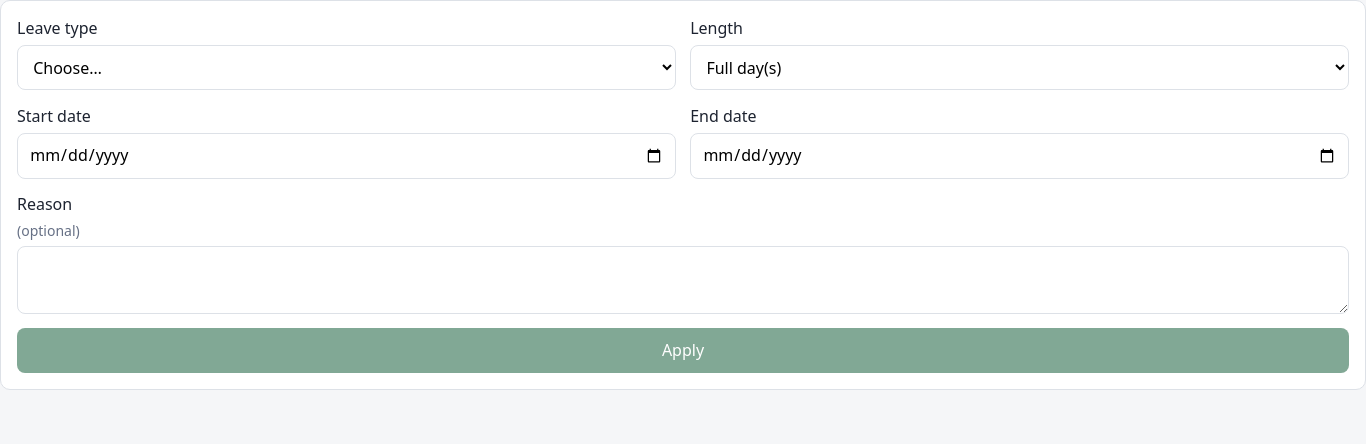
Test: ApplyLeaveForm › sends the typed request and confirms it
Select "Sick (7 available)" in the dropdown labelled "Leave type": (346, 68) left=17, top=45, right=676, bottom=90
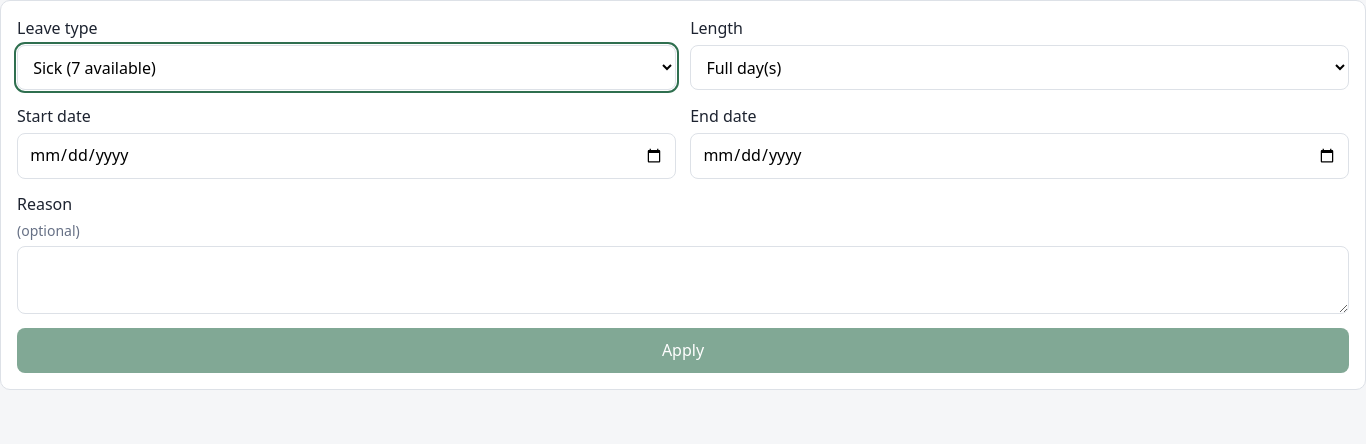
In the date field labelled "Start date": (346, 156) left=17, top=132, right=676, bottom=179, type "2026-03-09"
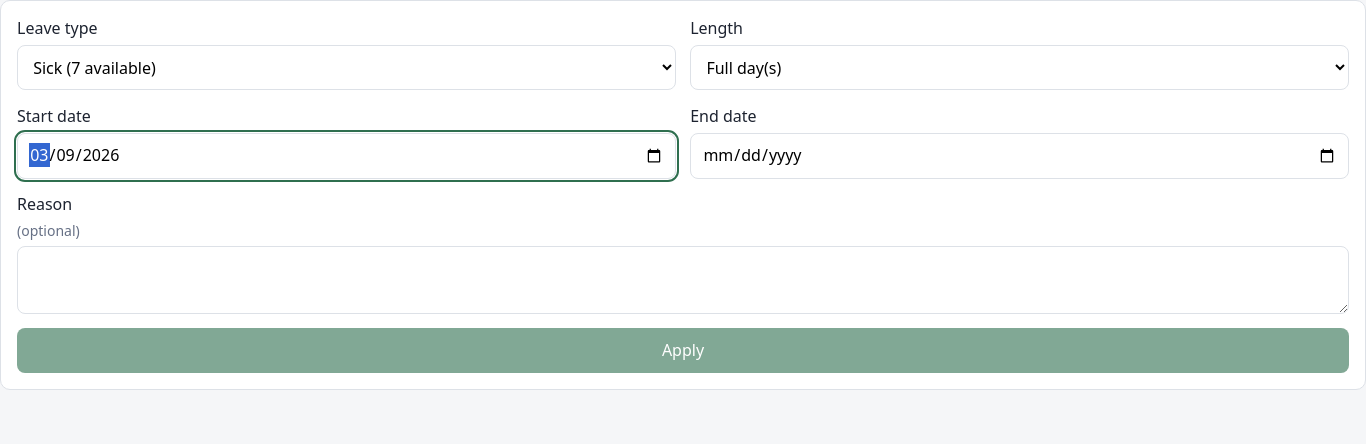
In the date field labelled "End date": (1020, 156) left=690, top=132, right=1349, bottom=179, type "2026-03-13"
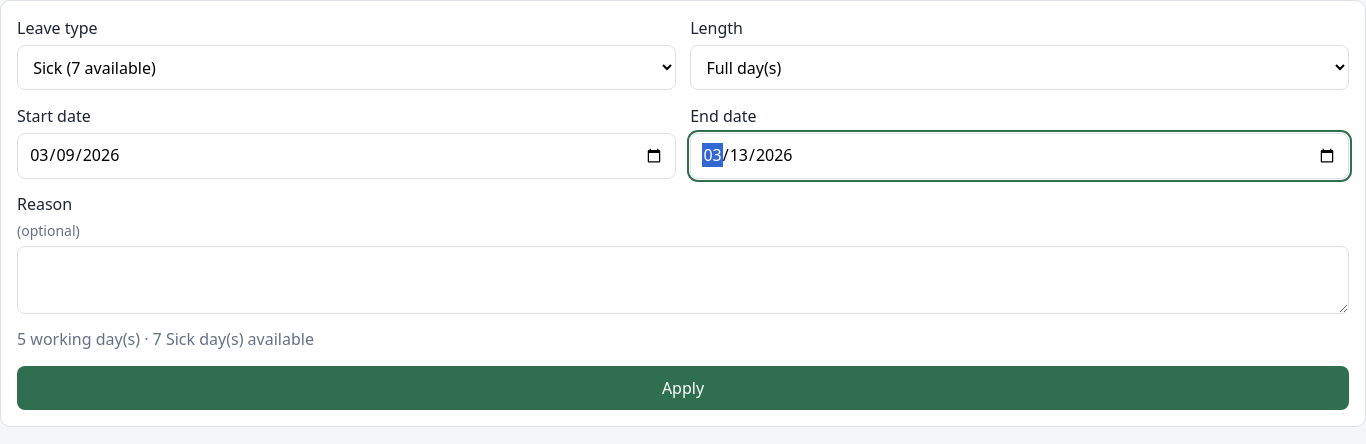
In the text box labelled "Reason (optional)": (683, 280) left=17, top=246, right=1349, bottom=314, type "Flu"
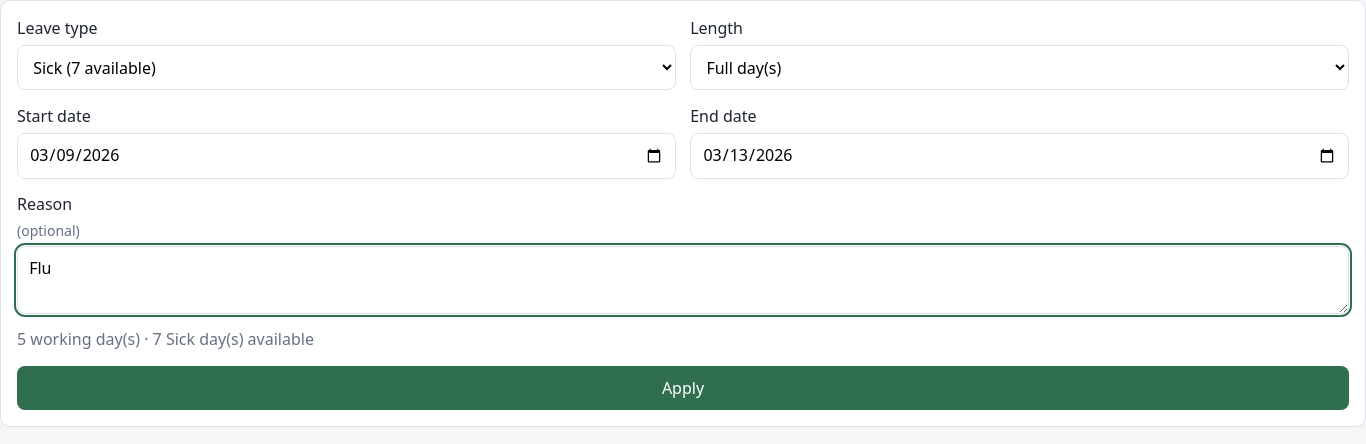
Click the button "Apply": (683, 388) left=17, top=366, right=1349, bottom=410
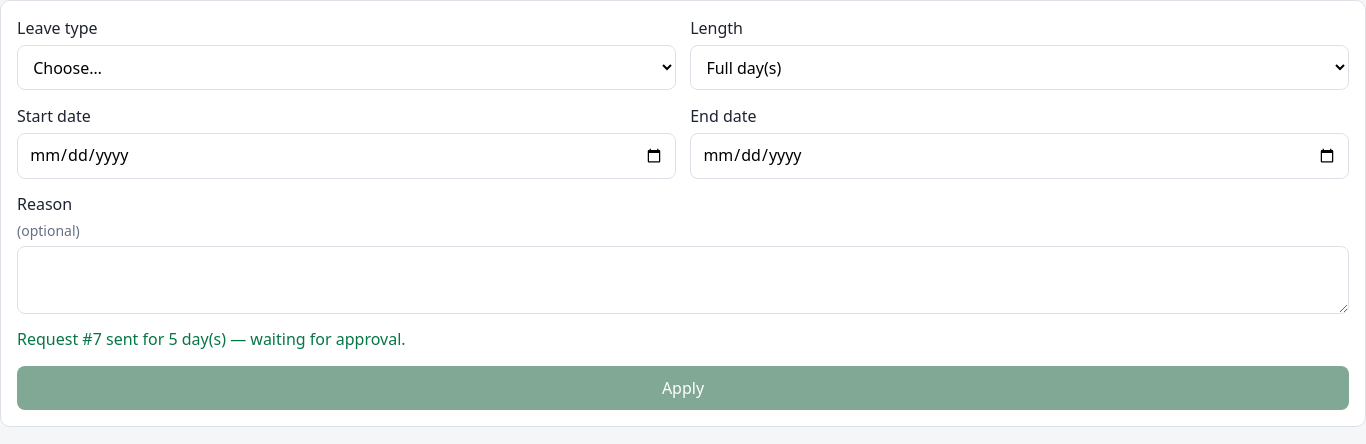
Expected: the message shows "Request #7 sent for 5 day(s)", left=17, top=328, right=406, bottom=350
Expected: the date field labelled "Start date" is empty, left=17, top=132, right=676, bottom=179
